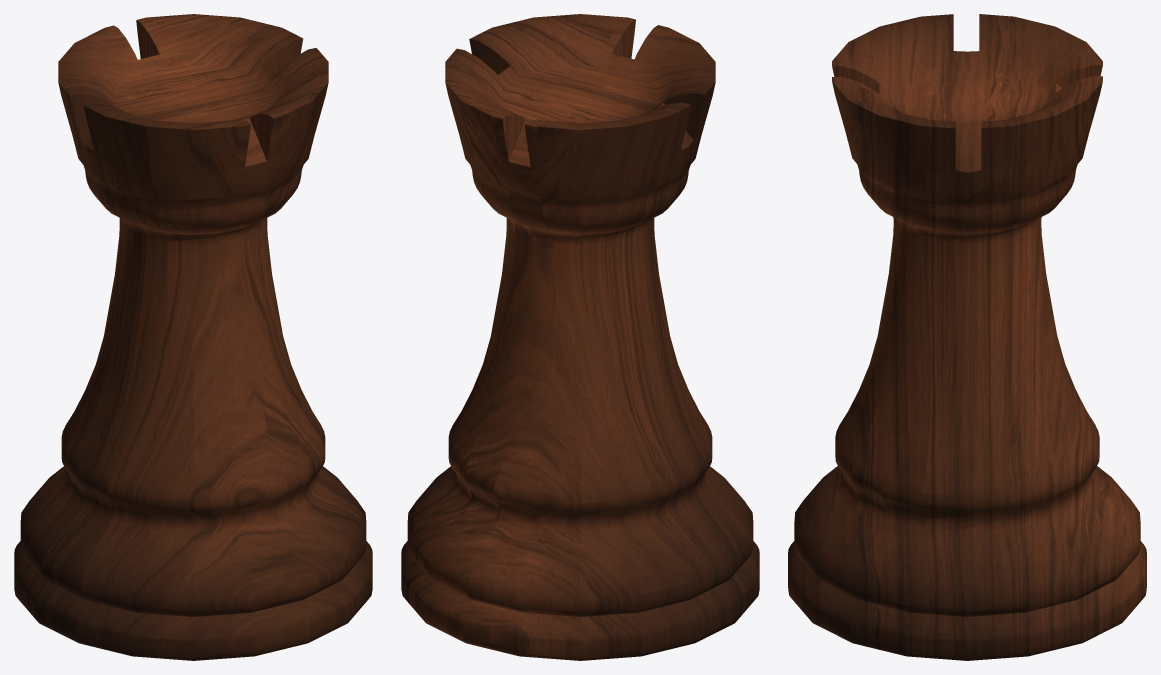
File: preto-torre.obj
3 views of the same model, side by side, from view 1: azimuth 30°, elevation 25°; view 2: azimuth 150°, elevation 25°; view 3: azimuth 270°, elevation 25° (orthographic).
Parts seen in each view (by area): view 1: TORRE02; view 2: TORRE02; view 3: TORRE02.
Boxes of the visible parts, x1,y1,x2,y2 form: TORRE02: [14, 14, 372, 660]; TORRE02: [401, 14, 759, 660]; TORRE02: [788, 14, 1146, 660].
Bounding box in the file's own units: 166 × 260 × 163.
Materials: 1 (1 with a texture image).
